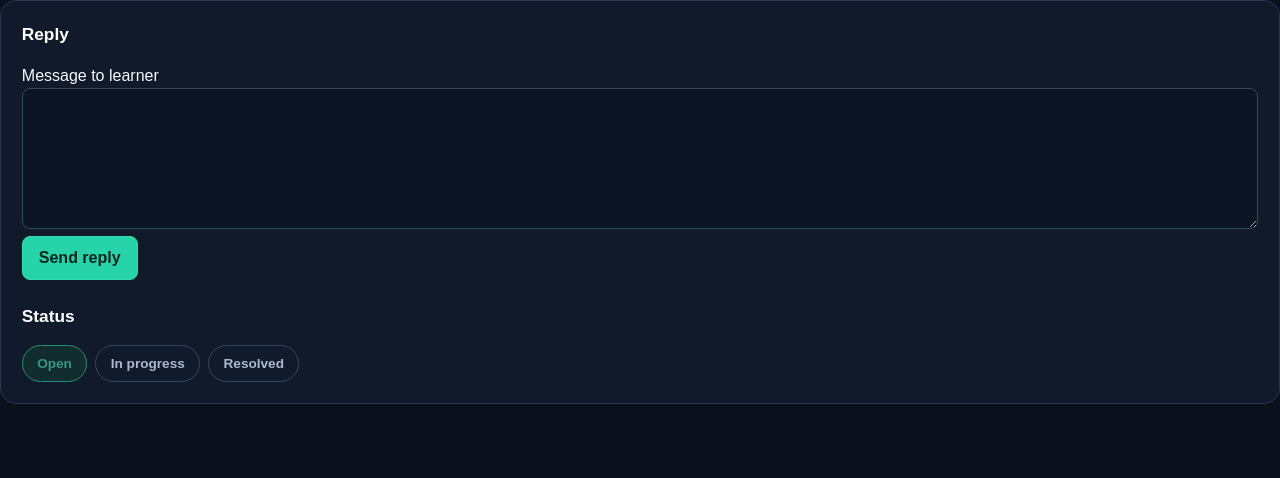
Test: SupportTicketPanel › submits a reply for the given ticket
In the text box labelled "Message to learner": (640, 158) [22,88,1258,229], type "We are looking into this."
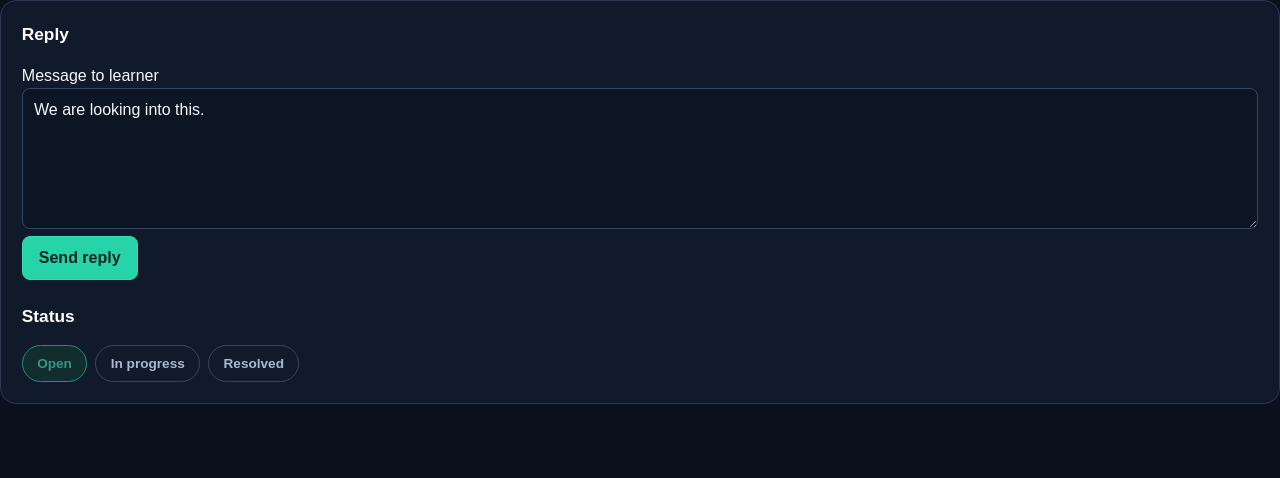
Click the button "Send reply": click(80, 258) [22,236,138,280]
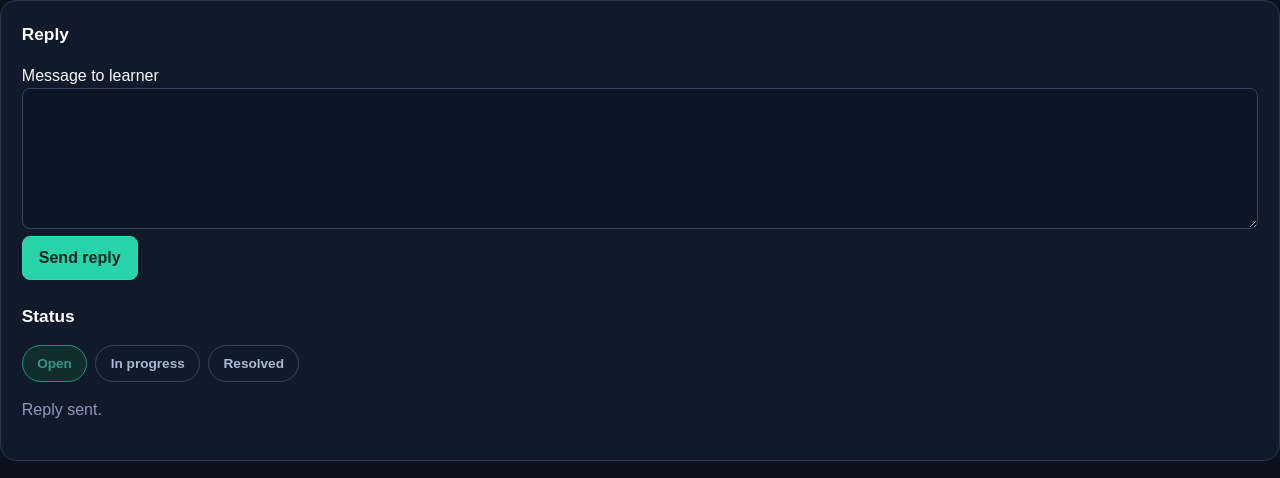
Check: the message reads "Reply sent.", box [22,401,102,418]
